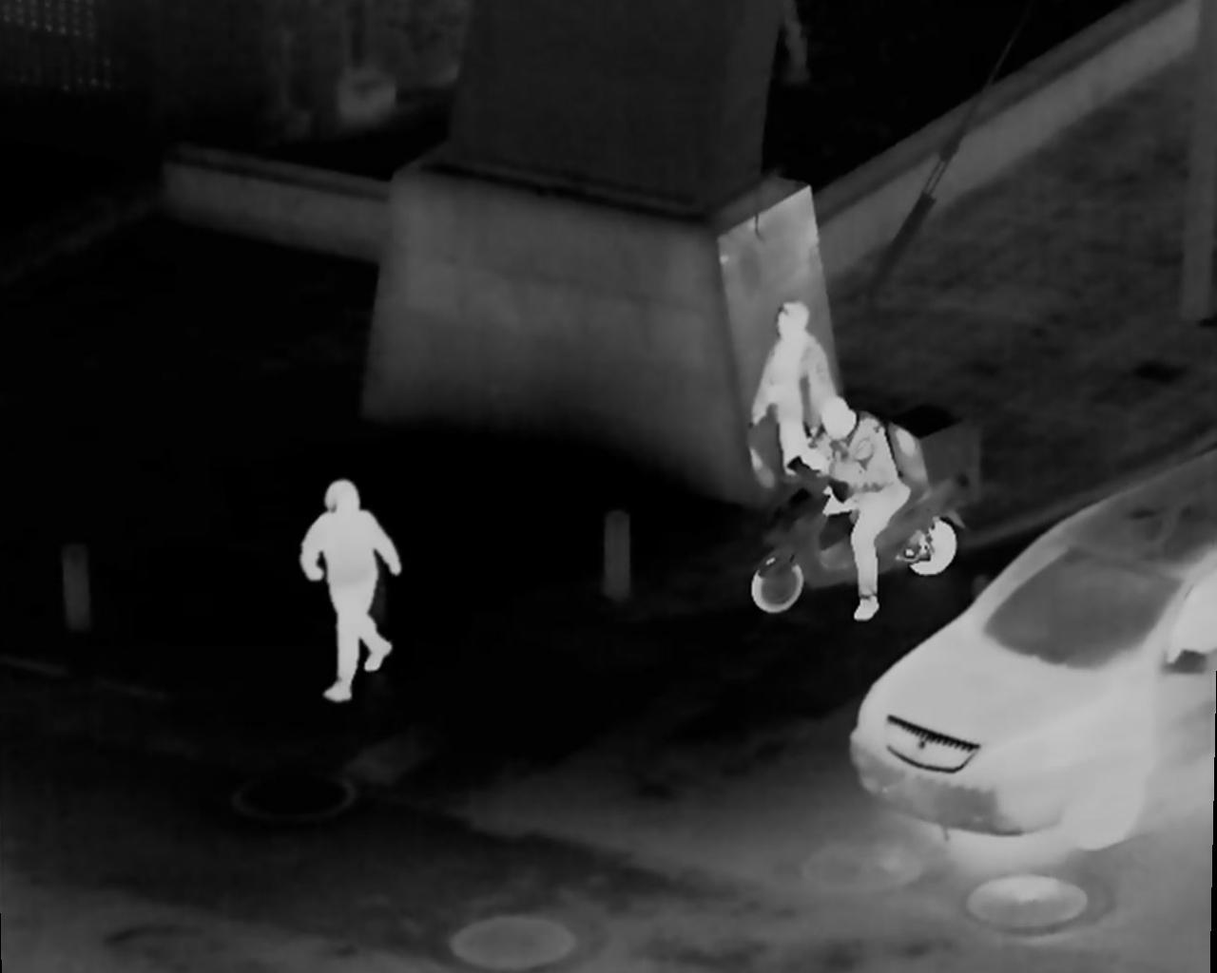person: (294, 481, 417, 699), (798, 399, 916, 617), (768, 302, 843, 493)
